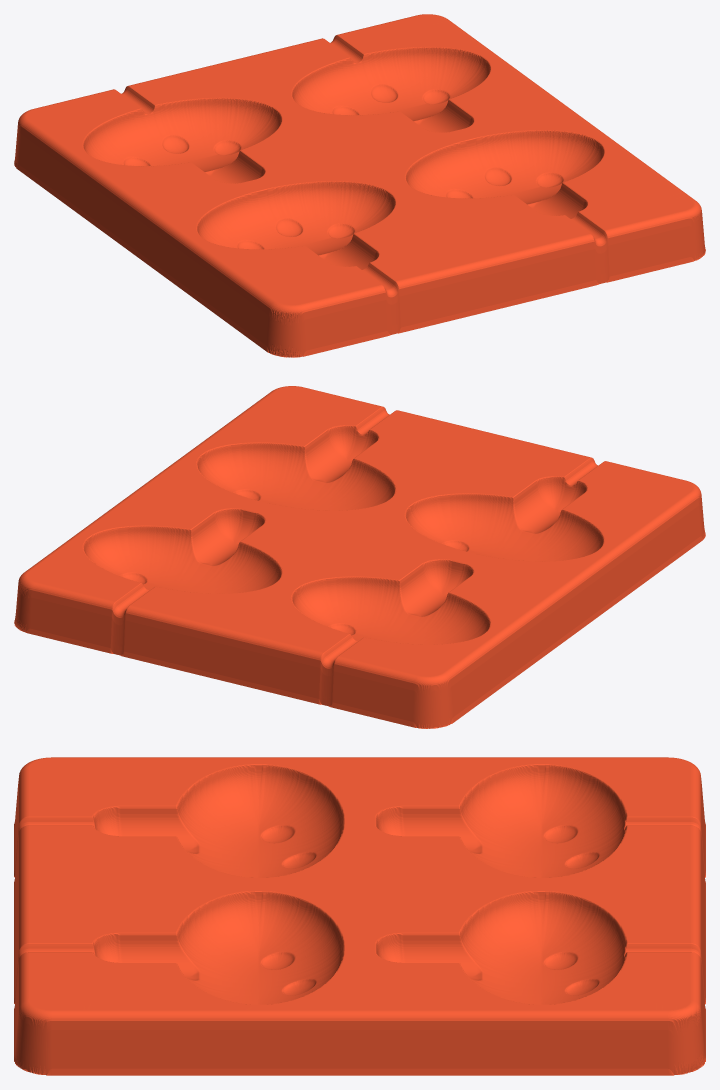
Rendered from mold.glb.
The picture shows the model from 3 angles, top to bottom: view 1: azimuth 30°, elevation 25°; view 2: azimuth 150°, elevation 25°; view 3: azimuth 270°, elevation 25°; orthographic projection. The views are drawn at different scales.
Visible parts, largest first — view 1: geometry_0; view 2: geometry_0; view 3: geometry_0.
Boxes of the visible parts, left/top/right/bottom form: geometry_0: left=14, top=14, right=705, bottom=357; geometry_0: left=14, top=386, right=705, bottom=728; geometry_0: left=14, top=757, right=705, bottom=1075.
Size of the model in its own units: 0.1497 by 0.0155 by 0.1654.
